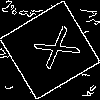X: (25, 25, 81, 77)
